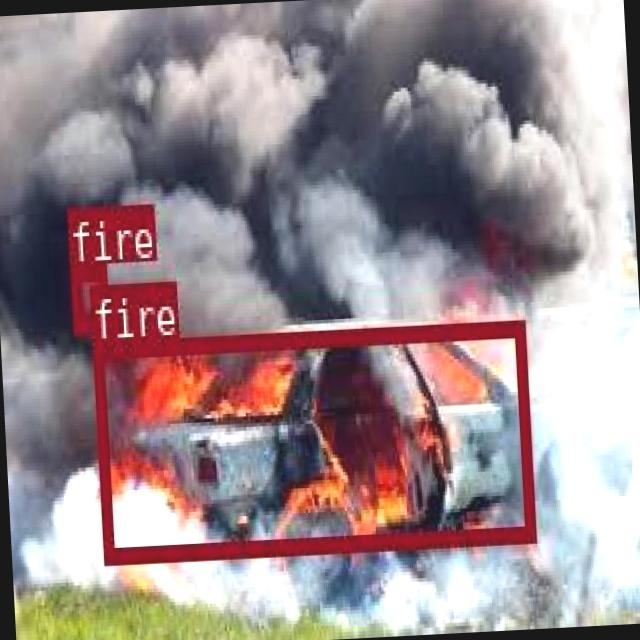fire: (91, 318, 534, 559), (68, 262, 108, 333)
